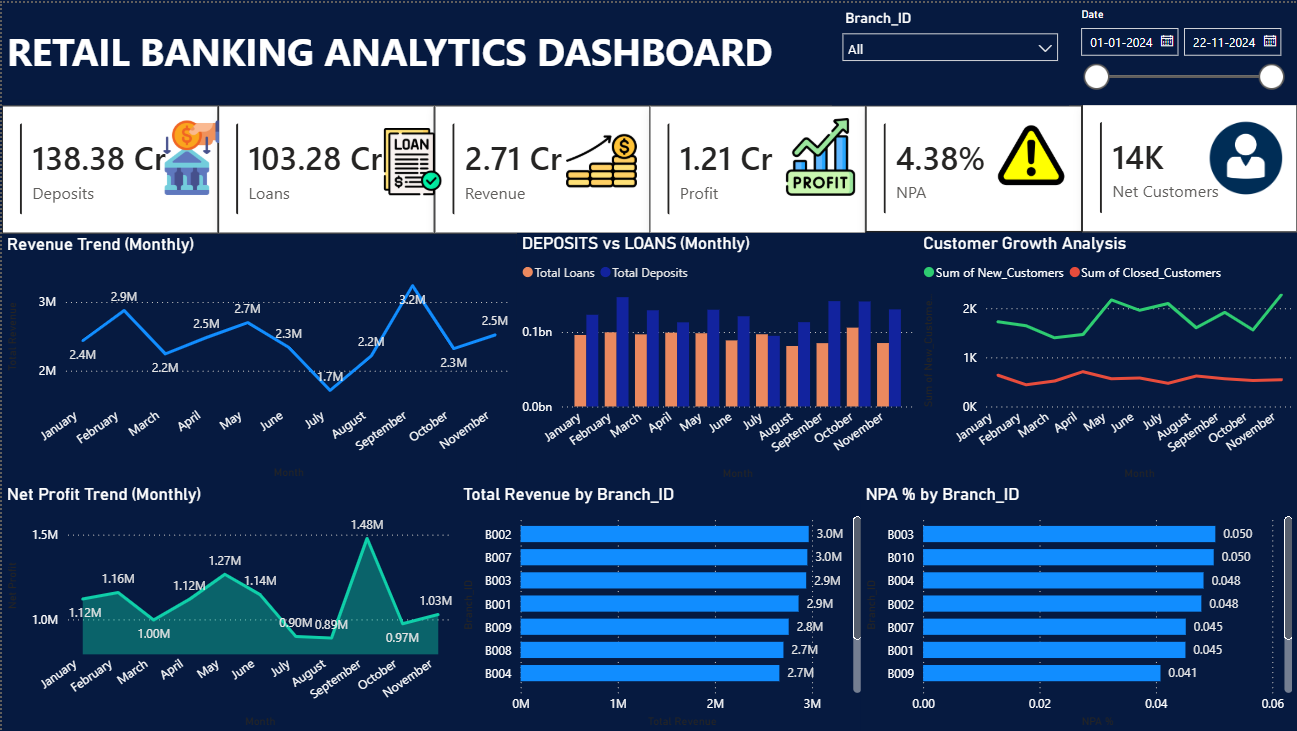

The dashboard page shown, as its layout file describes it:
{"tool":"powerbi","page":{"name":"Page 1","canvas":[1280,720],"ordinal":0},"visuals":[{"type":"cardVisual","fields":{"Data":["Table.Total Deposits"]},"box":[0,101.7,213.3,126.7],"z":0},{"type":"cardVisual","fields":{"Data":["Table.Loans cr"]},"box":[213.3,101.7,213.3,126.7],"z":1000},{"type":"cardVisual","fields":{"Data":["Table.Revenue Cr"]},"box":[426.7,101.7,213.3,126.7],"z":2000},{"type":"cardVisual","fields":{"Data":["Table.Profit cr"]},"box":[640,101.7,213.3,126.7],"z":3000},{"type":"cardVisual","fields":{"Data":["Table.NPA Display"]},"box":[853.3,101.7,213.3,125],"z":4000},{"type":"cardVisual","fields":{"Data":["Table.Net Customers Display"]},"box":[1066.7,100,213.3,126.7],"z":5000},{"type":"lineChart","title":"Revenue Trend (Monthly)","fields":{"Y":["Table.Total Revenue"],"Category":["Table.Date.Variation.Date Hierarchy.Month"]},"box":[0,228.3,508.3,246.7],"z":6000},{"type":"clusteredColumnChart","title":"DEPOSITS vs LOANS (Monthly)","fields":{"Category":["Table.Date.Variation.Date Hierarchy.Month"],"Y":["Table.Total Loans","Table.Total Deposits"]},"box":[508.3,226.7,396.7,248.3],"z":7000},{"type":"barChart","fields":{"Category":["Table.Branch_ID"],"Y":["Table.Total Revenue"]},"box":[450,475,403.3,245],"z":8000},{"type":"lineChart","title":"Customer Growth Analysis","fields":{"Category":["Table.Date.Variation.Date Hierarchy.Month"],"Y":["Sum(Table.New_Customers)","Sum(Table.Closed_Customers)"]},"box":[905,226.7,375,248.3],"z":9000},{"type":"barChart","fields":{"Category":["Table.Branch_ID"],"Y":["Table.NPA %"]},"box":[848.3,475,431.7,245],"z":10000},{"type":"lineChart","title":"Net Profit Trend (Monthly)","fields":{"Category":["Table.Date.Variation.Date Hierarchy.Month"],"Y":["Table.Net Profit"]},"box":[0,475,450,245],"z":11000},{"type":"slicer","fields":{"Values":["Table.Branch_ID"]},"box":[820,1.7,233.3,100],"z":12000},{"type":"slicer","fields":{"Values":["Table.Date"]},"box":[1053.1,0,227.2,100],"z":13000},{"type":"textbox","box":[0,16.7,776.7,61.7],"z":14000},{"type":"image","box":[343.3,123.3,125,66.7],"z":14001},{"type":"image","box":[746.7,113.3,123.3,76.7],"z":14004},{"type":"image","box":[531.7,120,120,71.7],"z":14005},{"type":"image","box":[1176.7,113.3,103.3,78.3],"z":14006},{"type":"image","box":[960,113.3,111.7,73.3],"z":14007},{"type":"image","box":[120,113.3,135,78.3],"z":14008}]}

Visuals, with their boxes in screenshot pixels (x1, y1, x2, y2), scaled from the page's 1280x720 canvas onto the 1297x731 screenshot:
cardVisual - Table.Total Deposits: (left=0, top=103, right=216, bottom=232)
cardVisual - Table.Loans cr: (left=216, top=103, right=432, bottom=232)
cardVisual - Table.Revenue Cr: (left=432, top=103, right=648, bottom=232)
cardVisual - Table.Profit cr: (left=648, top=103, right=865, bottom=232)
cardVisual - Table.NPA Display: (left=865, top=103, right=1081, bottom=230)
cardVisual - Table.Net Customers Display: (left=1081, top=102, right=1296, bottom=230)
"Revenue Trend (Monthly)" lineChart: (left=0, top=232, right=515, bottom=482)
"DEPOSITS vs LOANS (Monthly)" clusteredColumnChart: (left=515, top=230, right=917, bottom=482)
barChart - Table.Branch_ID x Table.Total Revenue: (left=456, top=482, right=865, bottom=730)
"Customer Growth Analysis" lineChart: (left=917, top=230, right=1296, bottom=482)
barChart - Table.Branch_ID x Table.NPA %: (left=860, top=482, right=1296, bottom=730)
"Net Profit Trend (Monthly)" lineChart: (left=0, top=482, right=456, bottom=730)
slicer - Table.Branch_ID: (left=831, top=2, right=1067, bottom=103)
slicer - Table.Date: (left=1067, top=0, right=1296, bottom=102)
textbox: (left=0, top=17, right=787, bottom=80)
image: (left=348, top=125, right=475, bottom=193)
image: (left=757, top=115, right=882, bottom=193)
image: (left=539, top=122, right=660, bottom=195)
image: (left=1192, top=115, right=1296, bottom=195)
image: (left=973, top=115, right=1086, bottom=189)
image: (left=122, top=115, right=258, bottom=195)
